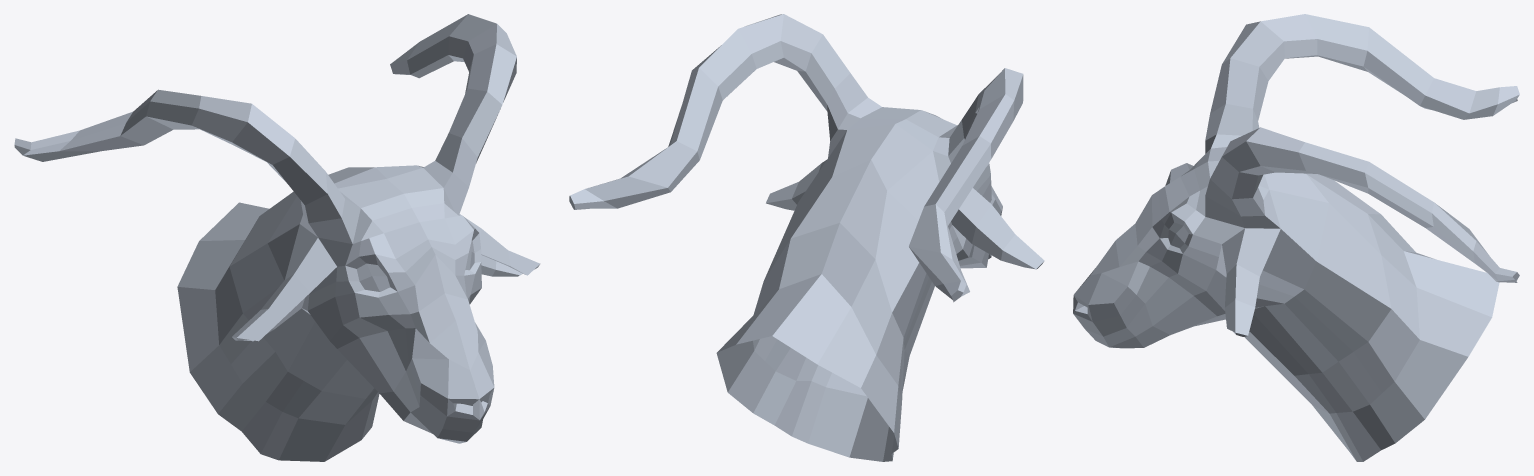
The model's file is GOAT_00.glb.
The picture shows the model from 3 angles, left to right: view 1: azimuth 30°, elevation 25°; view 2: azimuth 150°, elevation 25°; view 3: azimuth 270°, elevation 25°; orthographic projection. The views are drawn at different scales.
Visible parts, largest first — view 1: Plane.002; view 2: Plane.002; view 3: Plane.002.
Part boxes in pixels (x1=…): Plane.002: x1=14, y1=14, x2=540, y2=461; Plane.002: x1=569, y1=14, x2=1044, y2=461; Plane.002: x1=1073, y1=14, x2=1519, y2=461.
Bounding box in the file's own units: 4.86 × 4.52 × 4.85.
